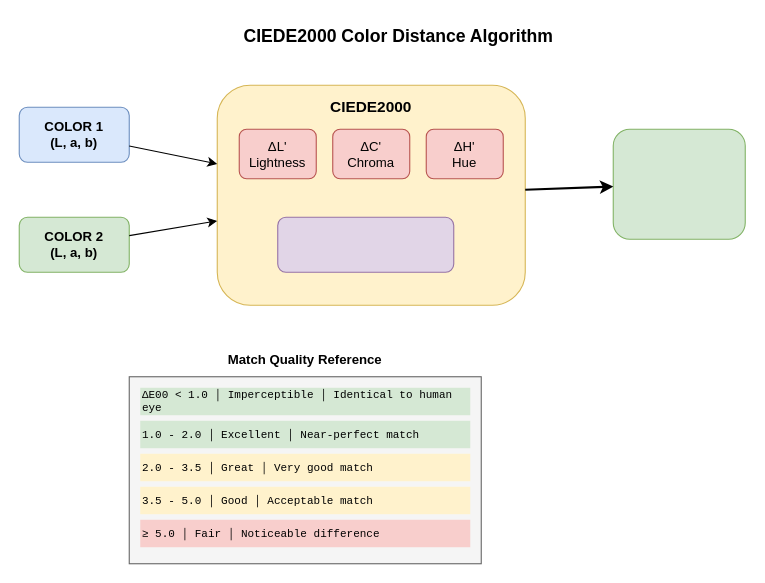
This 765x583 diagram has some shape labels left out. The shapes that lost their labels are listed below. From the top down, each one's centre as x and y in pixels, then its label:
At [678,183]: "OUTPUT ΔE00 Perceptual Distance".
At [365,244]: "Rotation Term (Blue region correction)".
